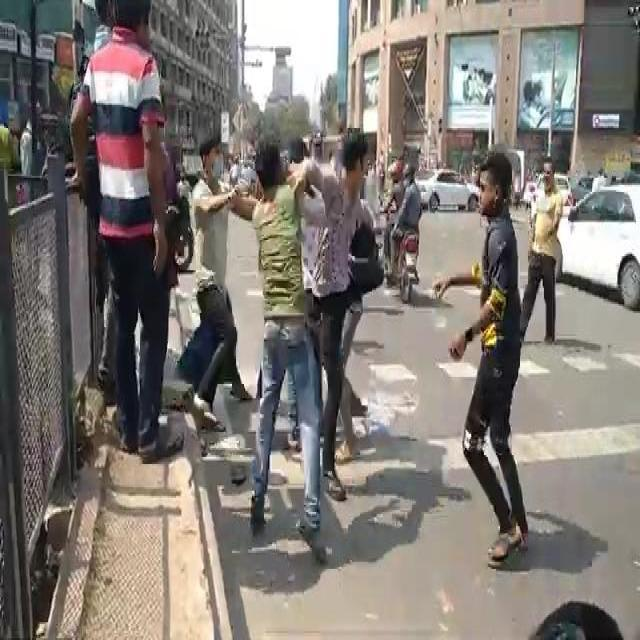fight: (205, 100, 404, 518), (452, 119, 580, 542), (78, 0, 186, 436)
